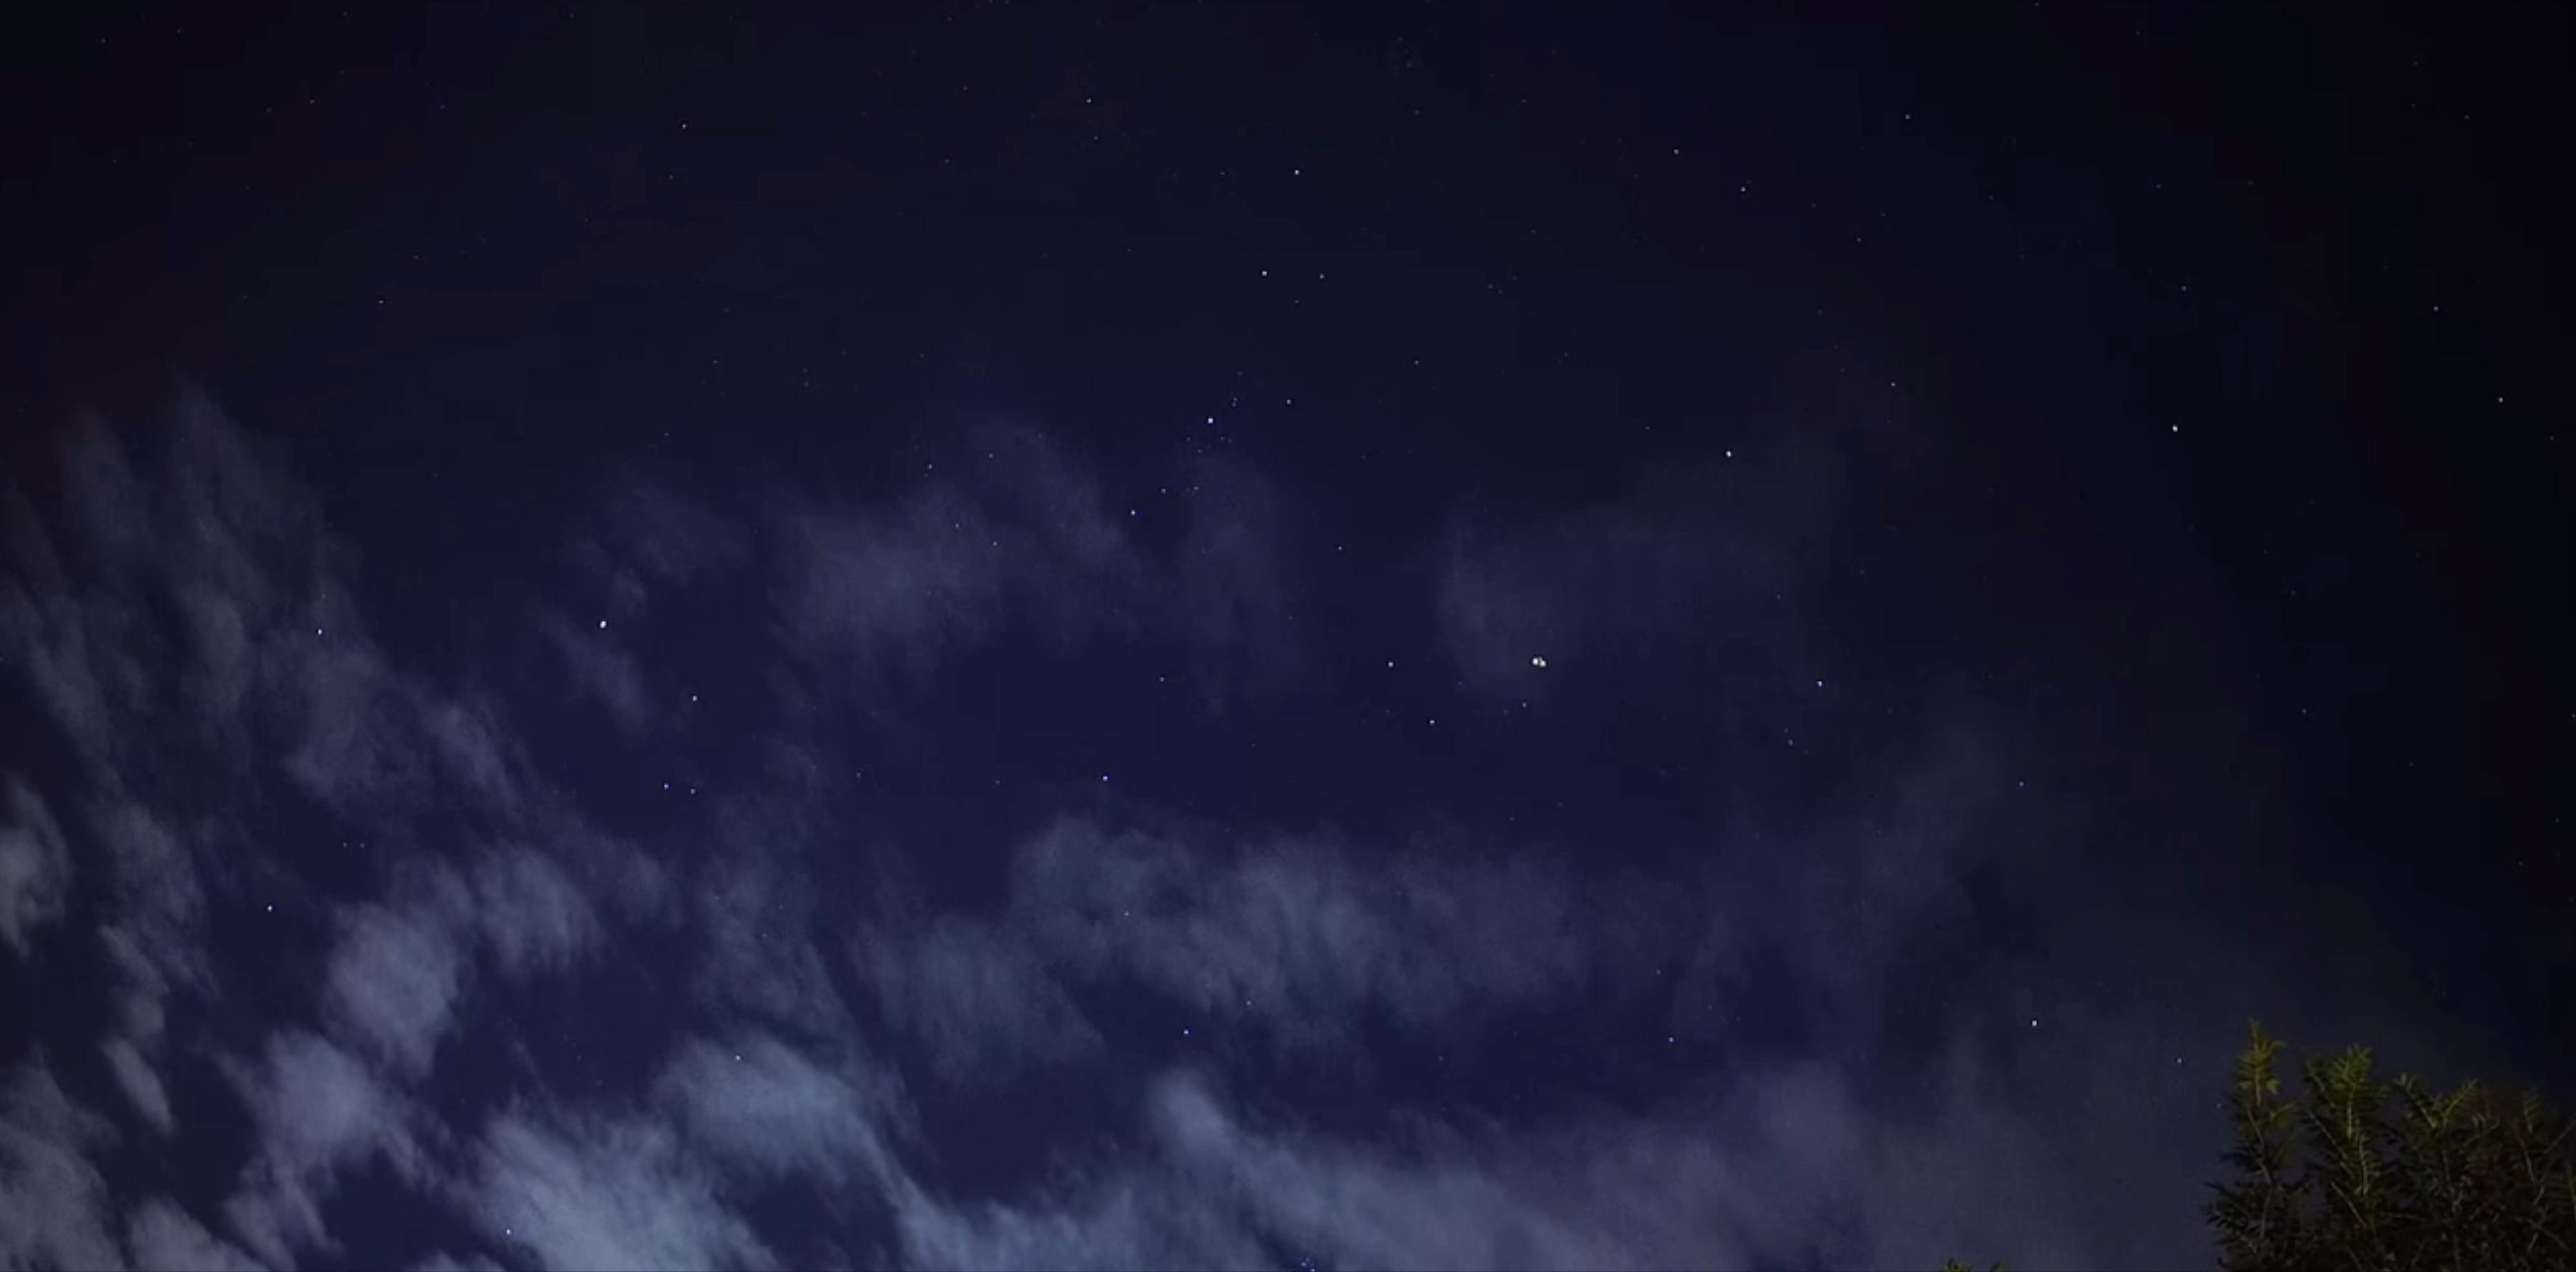Plane: (1525, 641, 1562, 680)
